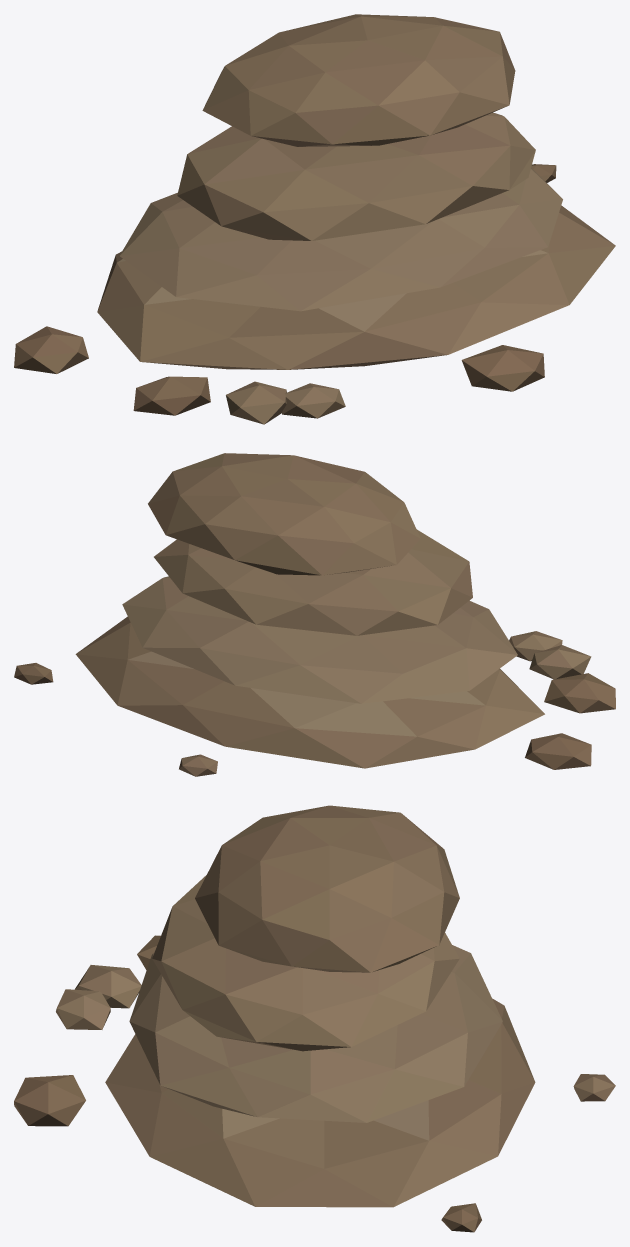
The model's file is env_mesa_outcrop.glb.
3 views of the same model, one above another, from view 1: azimuth 30°, elevation 25°; view 2: azimuth 150°, elevation 25°; view 3: azimuth 270°, elevation 25° (orthographic). The views are drawn at different scales.
Parts seen in each view (by area): view 1: env_mesa_outcrop; view 2: env_mesa_outcrop; view 3: env_mesa_outcrop.
Boxes of the visible parts, bbox=[...] form: env_mesa_outcrop: bbox=[14, 14, 615, 424]; env_mesa_outcrop: bbox=[14, 453, 615, 776]; env_mesa_outcrop: bbox=[14, 805, 615, 1232].
Size of the model in its own units: 11.48 by 4.57 by 9.25.
